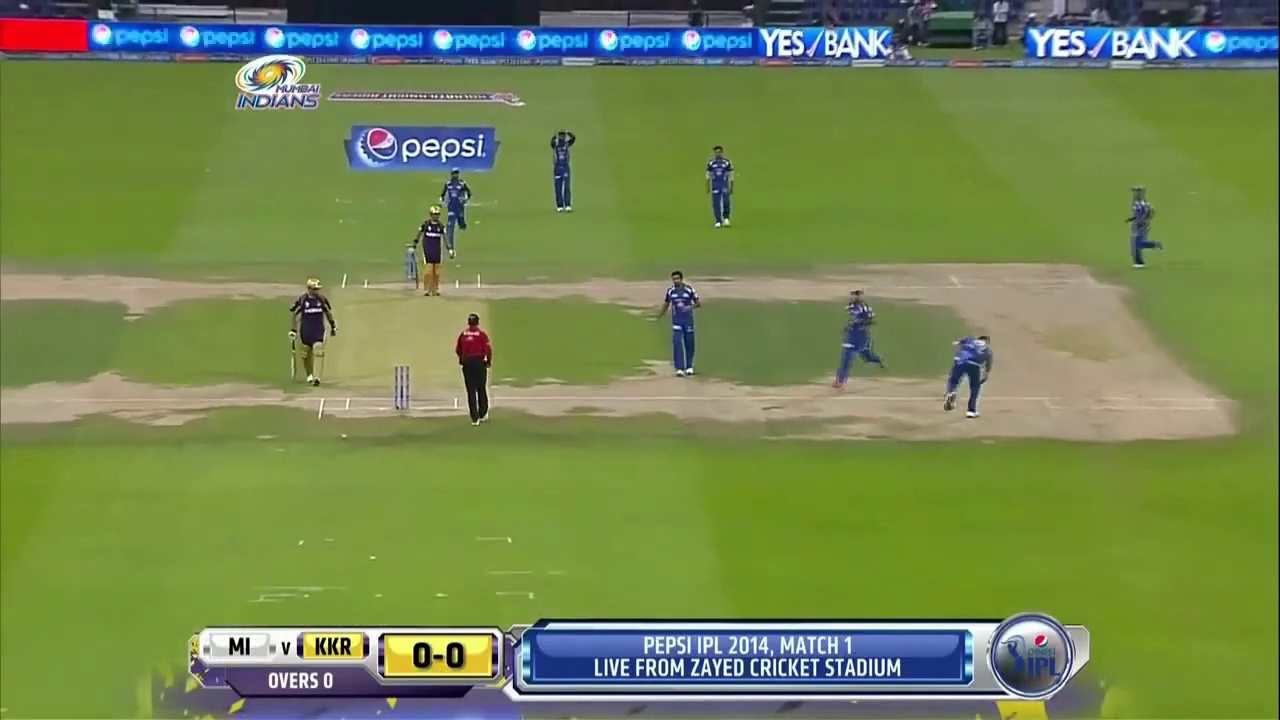bat: (289, 343, 297, 380), (413, 255, 420, 289)
stumps: (393, 362, 411, 412)
